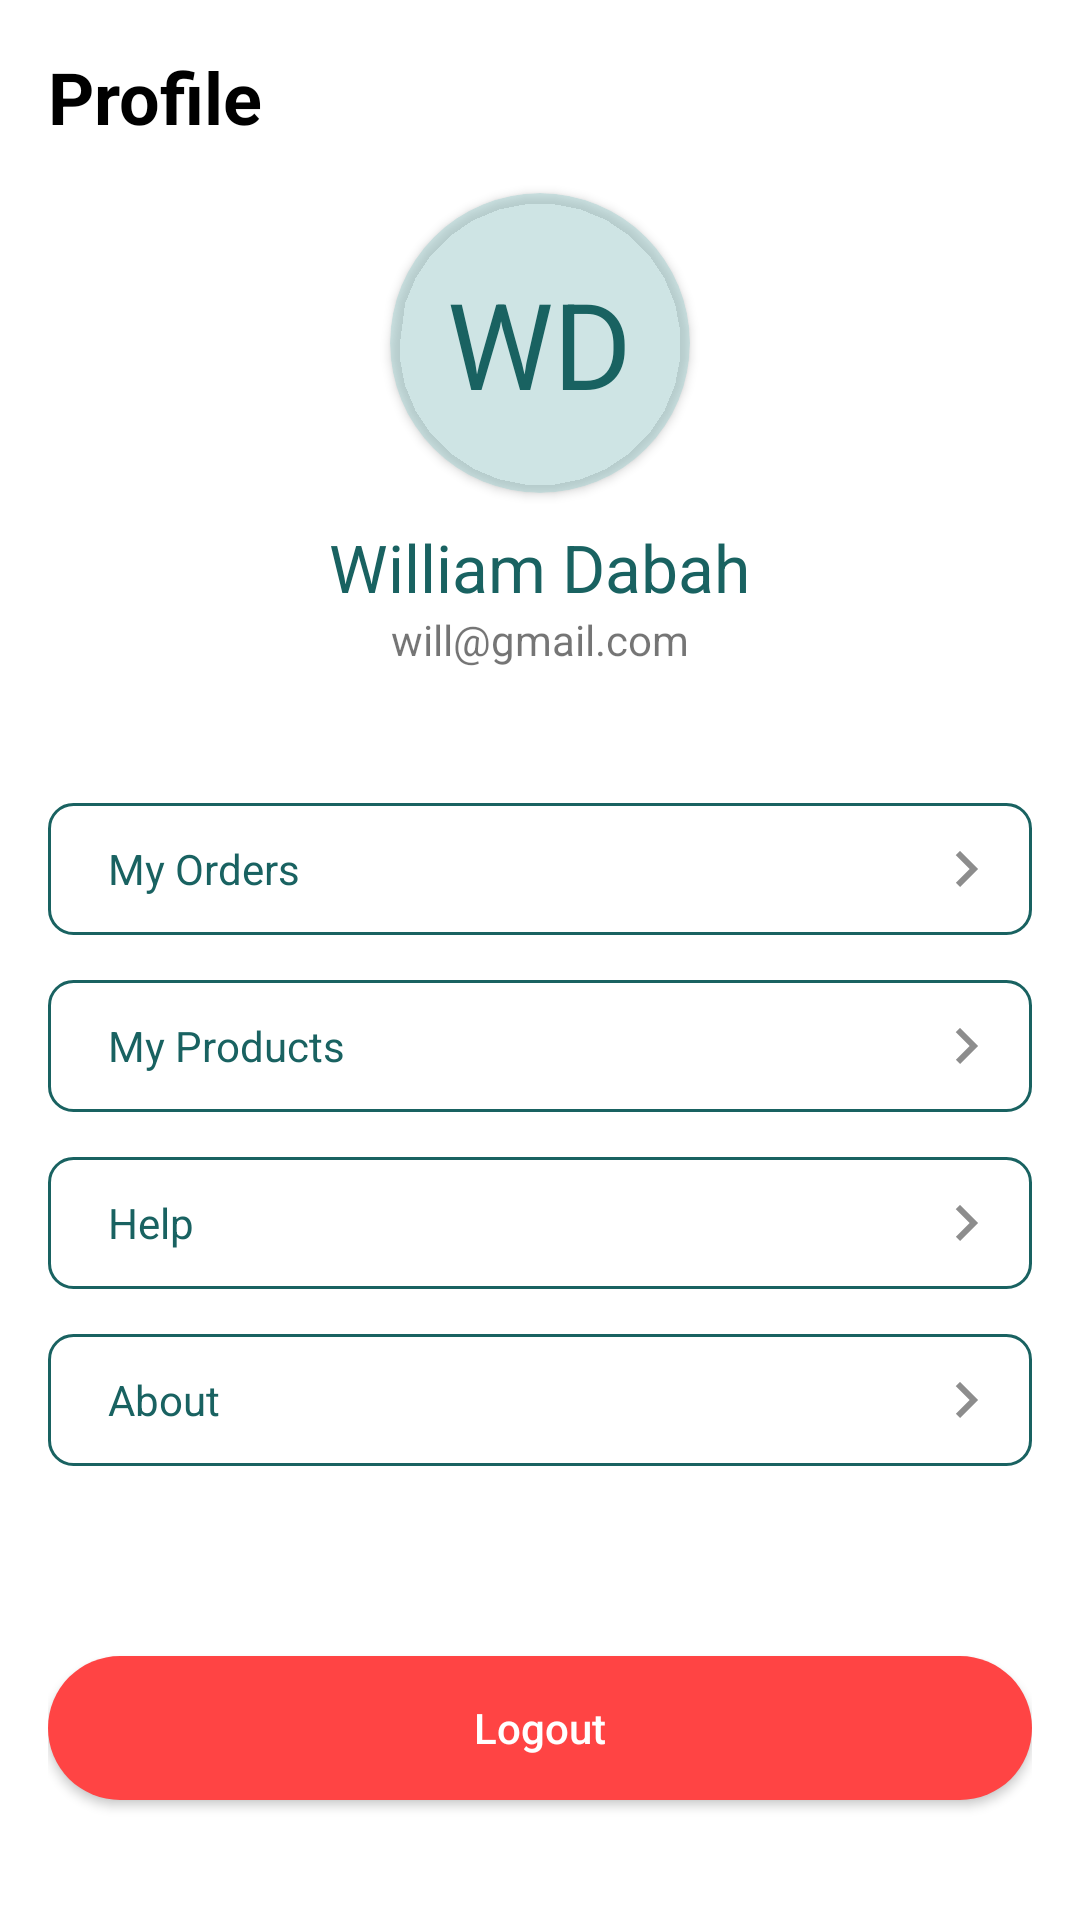

Where to tap for icons on this 1080px×1920px app screen, as [x,y]:
keyboard arrow right: [967,869], [967,1046], [967,1223], [967,1400]
